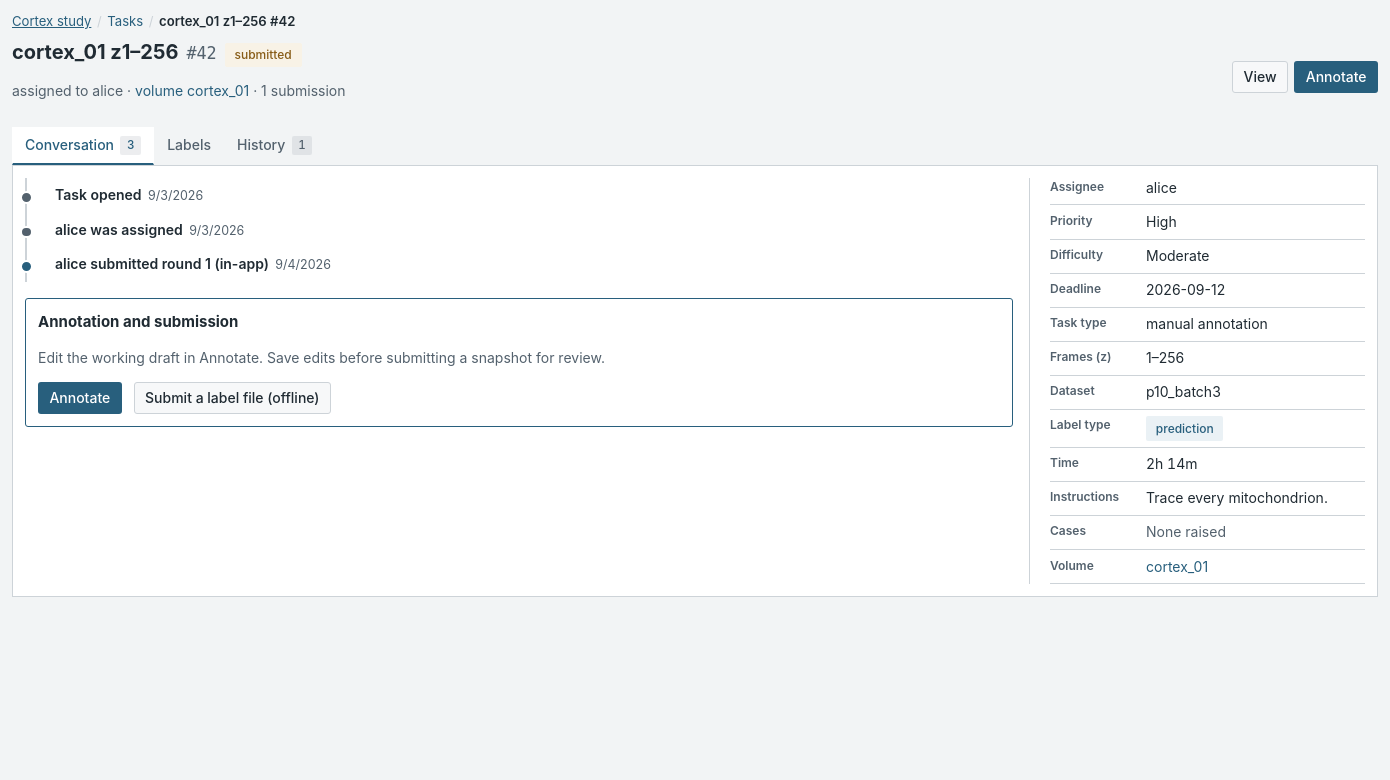
it: TaskDetailPage › keeps the canvas a sibling tab, so detail has somewhere to go that is not further down
Expected: the heading "cortex_01 z1–256" is shown, [12,39,178,65]
Step 1. Click the tab "Labels" → (189, 146), box [154,127,224,165]
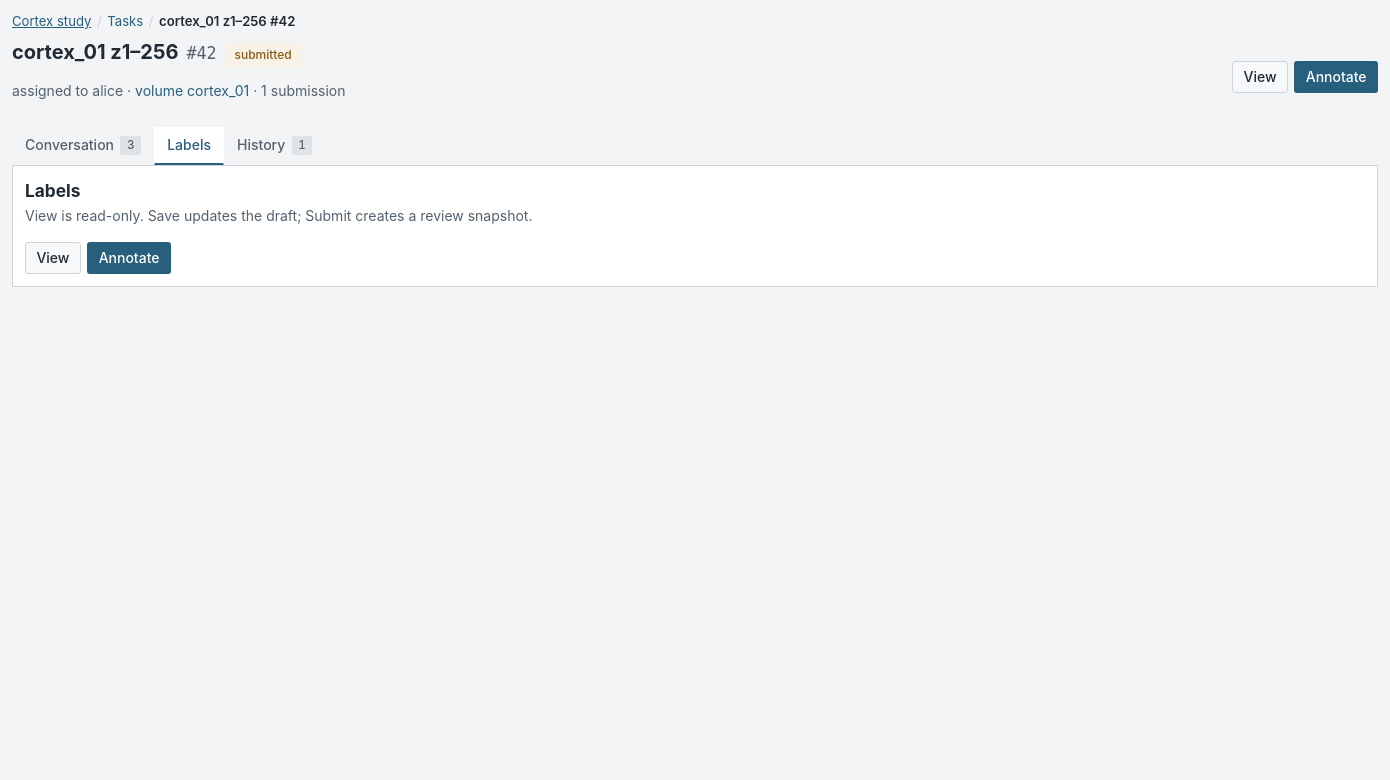
Expected: the heading "Labels" is shown, [25,180,80,201]
Expected: the list with class "task-timeline" is gone
Step 2. Click the tab "History 1" → (275, 146), box [224,127,326,165]
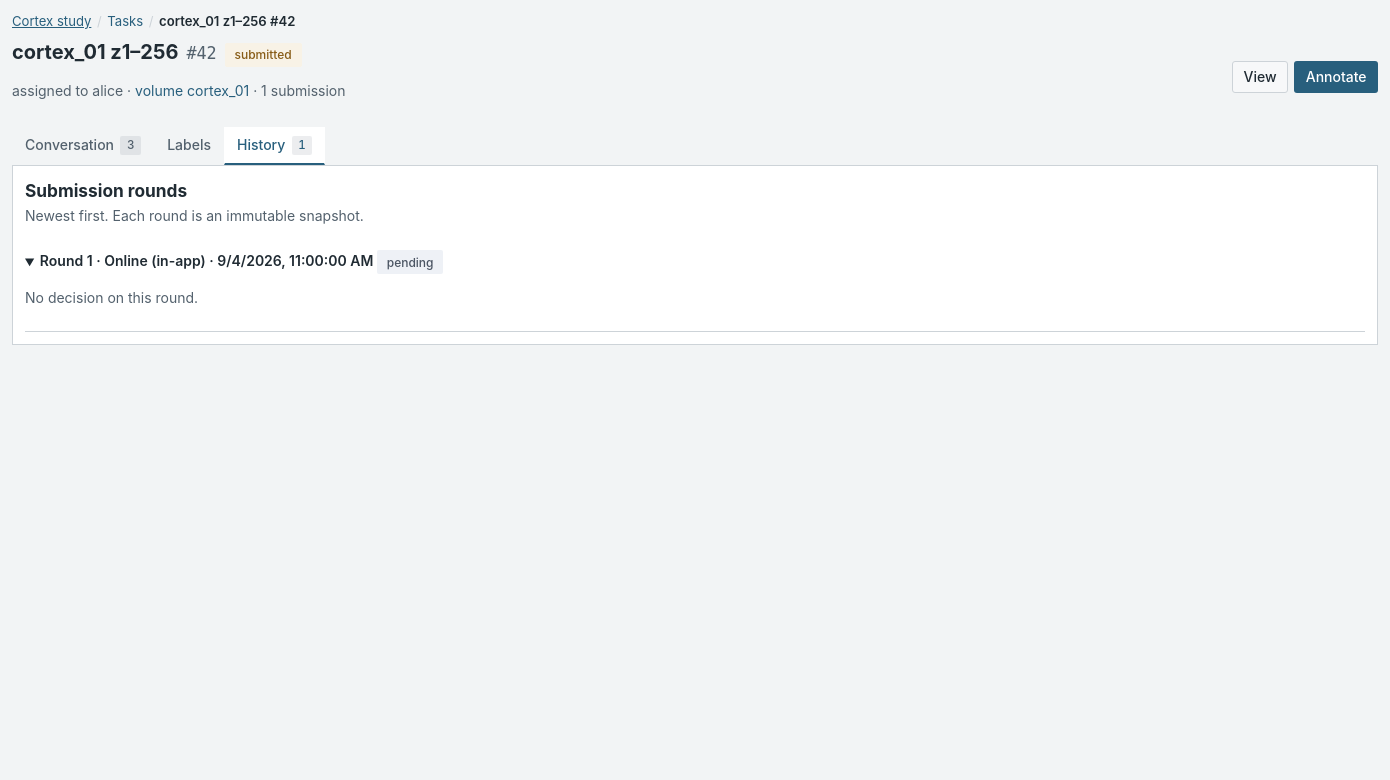
Expected: the heading "Submission rounds" is shown, [25,180,187,201]
